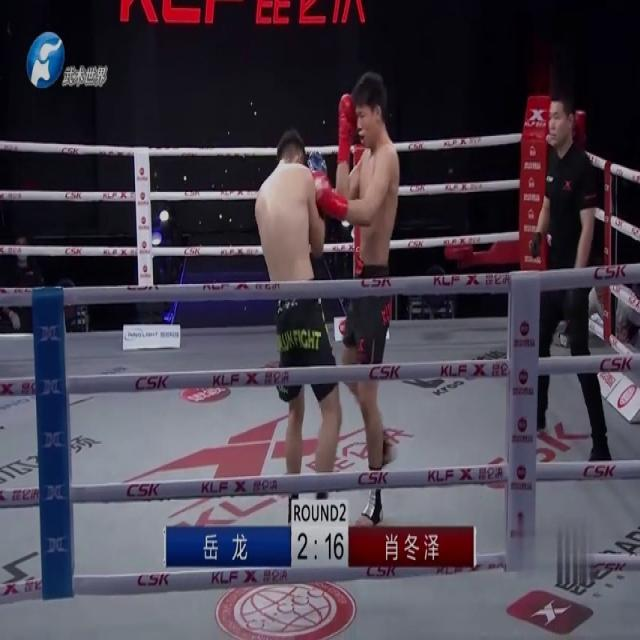fight: (256, 68, 409, 529)
non-fight: (528, 90, 612, 467)
